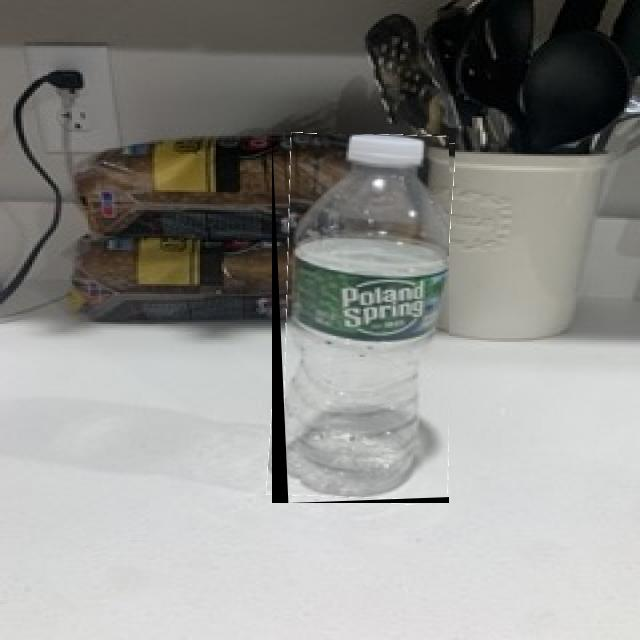water_bottle: (272, 134, 449, 503)
